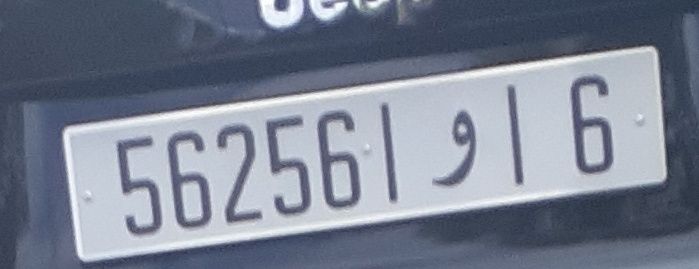2: (213, 116, 264, 224)
5: (105, 126, 163, 242), (264, 104, 314, 217)
6: (563, 62, 627, 181), (164, 120, 214, 235), (313, 103, 362, 211)
waw: (421, 93, 494, 192)
